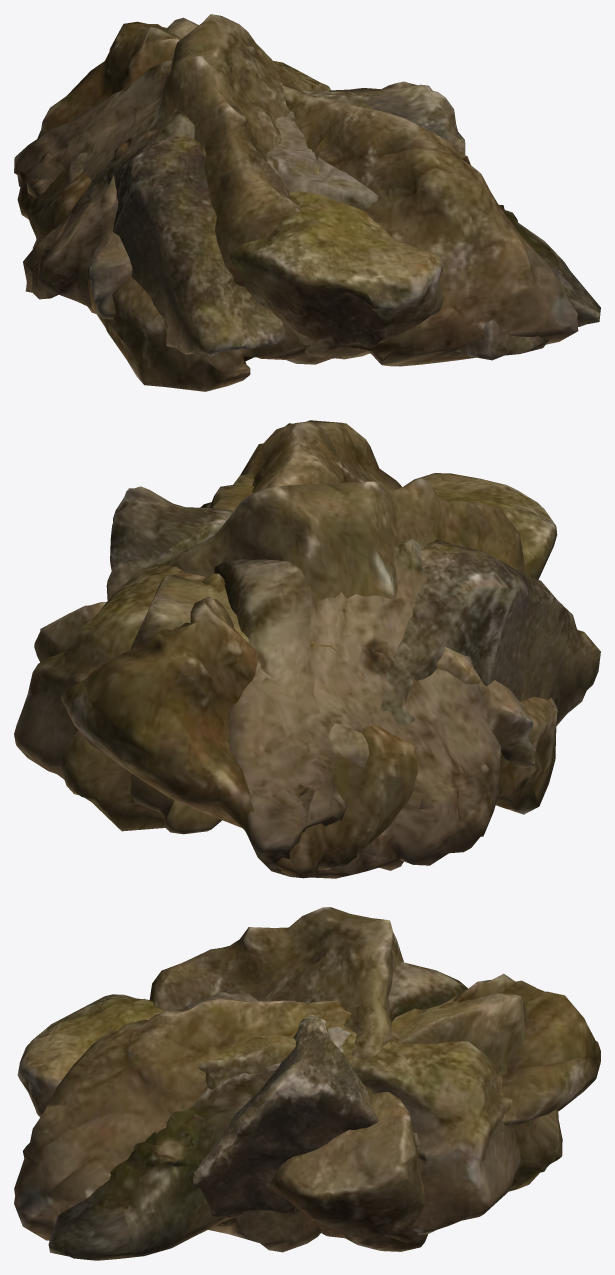
The model's file is rock_moss_set_01.glb.
3 views of the same model, one above another, from view 1: azimuth 30°, elevation 25°; view 2: azimuth 150°, elevation 25°; view 3: azimuth 270°, elevation 25° (orthographic). The views are drawn at different scales.
Visible parts, largest first — view 1: rock_moss_set_01_rock01_lod0, rock_moss_set_01_rock03_lod0, rock_moss_set_01_rock02_lod0, rock_moss_set_01_rock05_lod0, rock_moss_set_01_rock04_lod0, rock_moss_set_01_rock06_lod0; view 2: rock_moss_set_01_rock02_lod0, rock_moss_set_01_rock01_lod0, rock_moss_set_01_rock03_lod0, rock_moss_set_01_rock04_lod0, rock_moss_set_01_rock05_lod0, rock_moss_set_01_rock06_lod0; view 3: rock_moss_set_01_rock01_lod0, rock_moss_set_01_rock04_lod0, rock_moss_set_01_rock05_lod0, rock_moss_set_01_rock02_lod0, rock_moss_set_01_rock03_lod0, rock_moss_set_01_rock06_lod0.
Part boxes in pixels (<box>): rock_moss_set_01_rock01_lod0: <box>17,21,578,391</box>; rock_moss_set_01_rock03_lod0: <box>86,81,465,356</box>; rock_moss_set_01_rock02_lod0: <box>14,60,600,360</box>; rock_moss_set_01_rock05_lod0: <box>66,61,444,364</box>; rock_moss_set_01_rock04_lod0: <box>87,14,322,313</box>; rock_moss_set_01_rock06_lod0: <box>88,17,392,351</box>; rock_moss_set_01_rock02_lod0: <box>194,502,501,878</box>; rock_moss_set_01_rock01_lod0: <box>61,420,557,874</box>; rock_moss_set_01_rock03_lod0: <box>106,486,600,726</box>; rock_moss_set_01_rock04_lod0: <box>34,478,525,870</box>; rock_moss_set_01_rock05_lod0: <box>14,473,557,834</box>; rock_moss_set_01_rock06_lod0: <box>61,473,536,831</box>; rock_moss_set_01_rock01_lod0: <box>14,973,600,1252</box>; rock_moss_set_01_rock04_lod0: <box>149,907,427,1251</box>; rock_moss_set_01_rock05_lod0: <box>17,994,520,1234</box>; rock_moss_set_01_rock02_lod0: <box>48,961,467,1260</box>; rock_moss_set_01_rock03_lod0: <box>193,1014,419,1217</box>; rock_moss_set_01_rock06_lod0: <box>198,993,562,1210</box>.
Size of what is drawn, in the model's own units: 2.65 by 1.76 by 3.36.
1 material, 1 textured.
